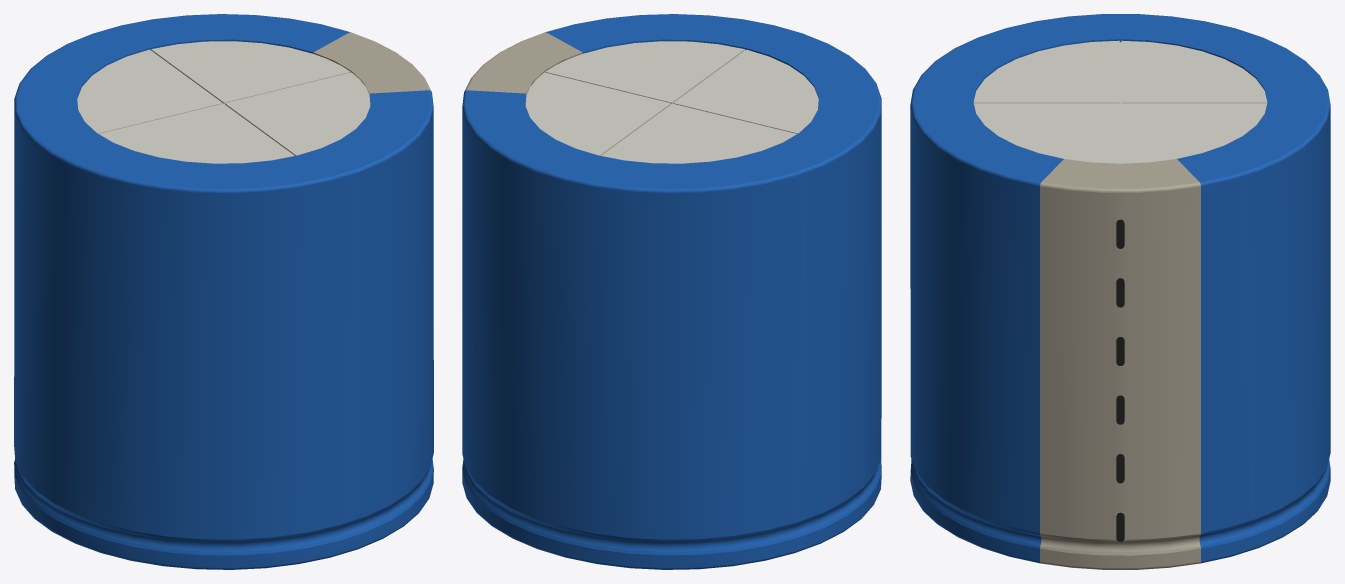
File: kc-cp_radial_d26.0mm_p10.00mm_snapin.glb
The picture shows the model from 3 angles, left to right: view 1: azimuth 30°, elevation 25°; view 2: azimuth 150°, elevation 25°; view 3: azimuth 270°, elevation 25°; orthographic projection.
Parts seen in each view (by area): view 1: 0_0.16666666666666666_0.5_0, 0.6666666666666666_0.6666666666666666_0.5833333333333334_0.8, 0.4166666666666667_0.4166666666666667_0.3333333333333333_0; view 2: 0_0.16666666666666666_0.5_0, 0.6666666666666666_0.6666666666666666_0.5833333333333334_0.8, 0.4166666666666667_0.4166666666666667_0.3333333333333333_0; view 3: 0_0.16666666666666666_0.5_0, 0.4166666666666667_0.4166666666666667_0.3333333333333333_0, 0.6666666666666666_0.6666666666666666_0.5833333333333334_0.8, 0_0_0_0.
Part boxes in pixels (box(x1,y1,x2,y2)): 0_0.16666666666666666_0.5_0: box(14, 14, 433, 569); 0.6666666666666666_0.6666666666666666_0.5833333333333334_0.8: box(77, 41, 370, 163); 0.4166666666666667_0.4166666666666667_0.3333333333333333_0: box(313, 32, 430, 94); 0_0.16666666666666666_0.5_0: box(462, 14, 881, 569); 0.6666666666666666_0.6666666666666666_0.5833333333333334_0.8: box(525, 41, 818, 163); 0.4166666666666667_0.4166666666666667_0.3333333333333333_0: box(465, 32, 582, 94); 0_0.16666666666666666_0.5_0: box(910, 14, 1330, 563); 0.4166666666666667_0.4166666666666667_0.3333333333333333_0: box(1040, 159, 1200, 569); 0.6666666666666666_0.6666666666666666_0.5833333333333334_0.8: box(973, 40, 1267, 163); 0_0_0_0: box(1116, 219, 1124, 541).
Bounding box in the file's own units: 2.6 × 2.8 × 2.6.
